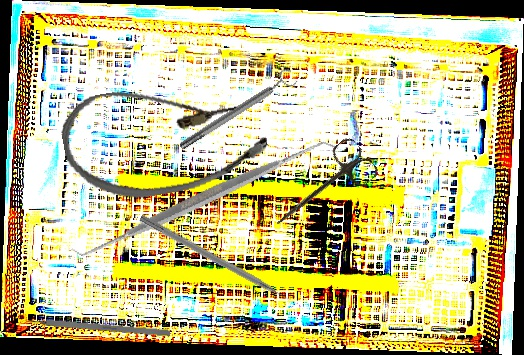Cannula: (56, 67, 273, 210)
Fixation Ring: (174, 66, 300, 155)
Hook Surgical: (17, 316, 171, 337)
Iris Scissors: (263, 134, 381, 245)
Pusher: (137, 213, 301, 311)
Spatula Surgical: (70, 62, 340, 335)
